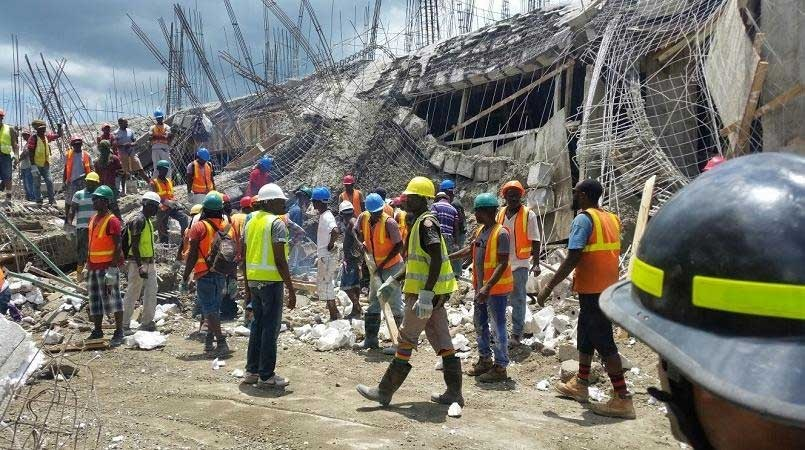blue: (365, 193, 384, 216), (313, 186, 330, 211), (440, 180, 455, 198), (257, 156, 272, 172), (196, 148, 210, 164), (154, 108, 163, 122)
none: (570, 177, 601, 212), (117, 116, 128, 129)
red: (502, 180, 524, 207), (239, 195, 253, 213), (69, 135, 82, 152), (343, 174, 355, 191)
white: (258, 183, 286, 215), (141, 190, 161, 216), (338, 200, 353, 219)
yellow: (405, 176, 434, 211), (84, 172, 99, 191), (189, 204, 201, 217)
